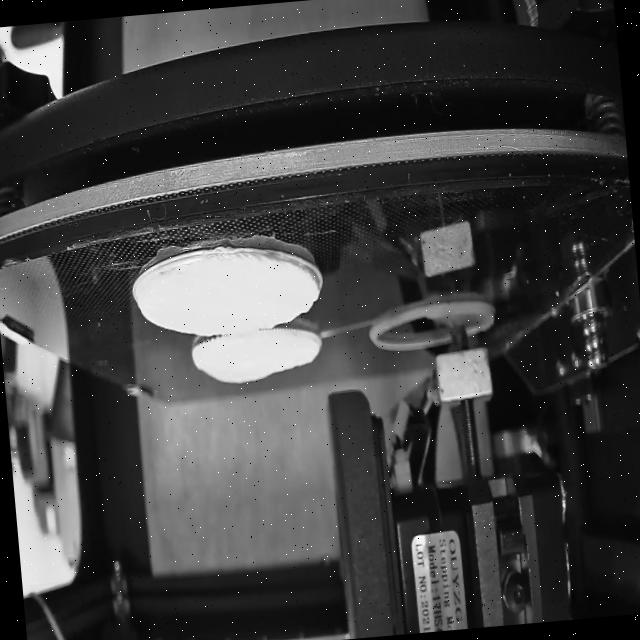over_extrusion: (296, 258, 322, 304)
